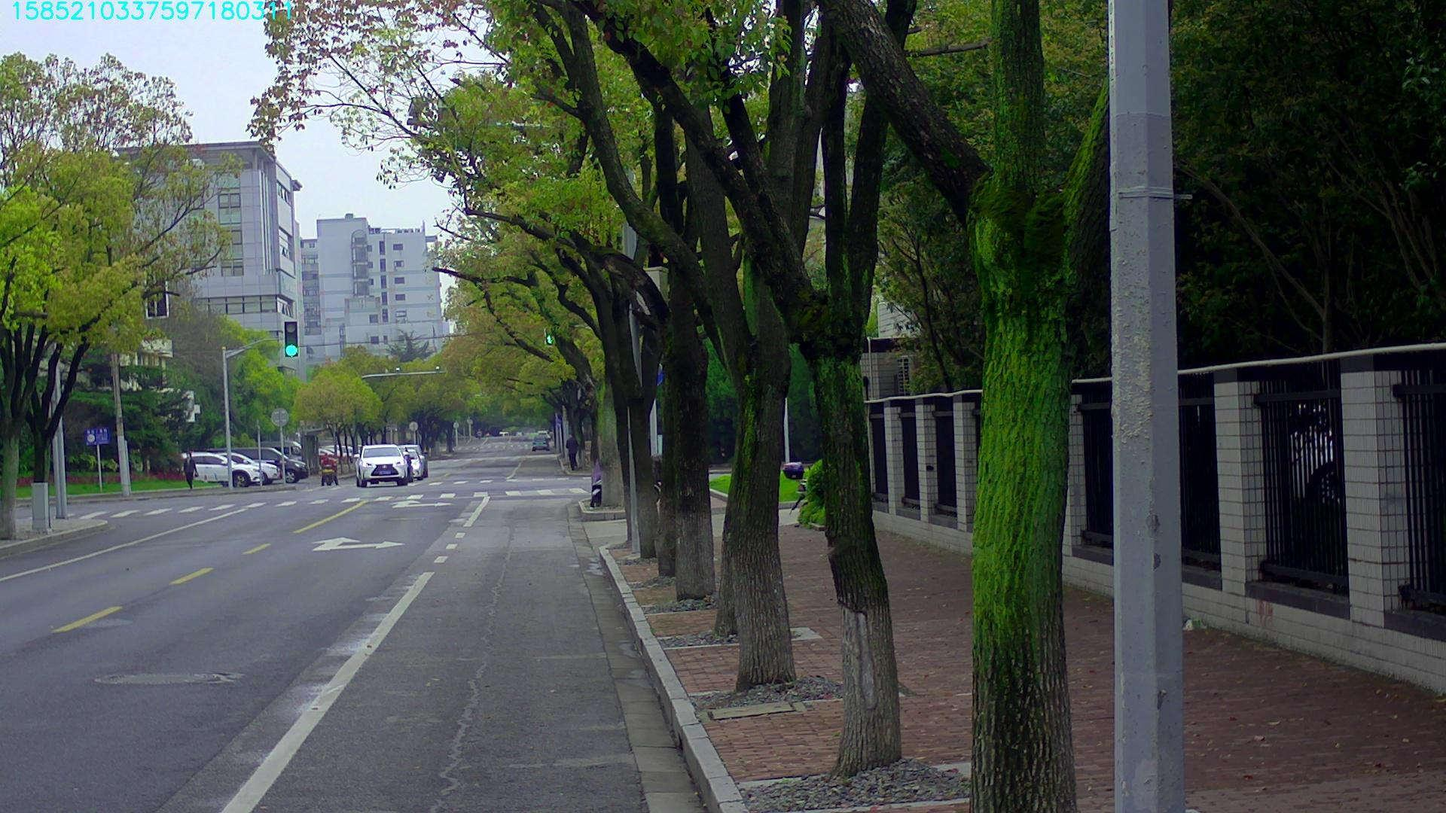green: (283, 319, 297, 355), (545, 327, 555, 346)
